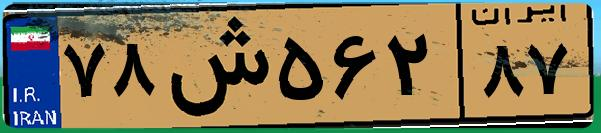2: (385, 28, 445, 110)
5: (270, 28, 330, 110)
6: (330, 28, 385, 110)
7: (57, 26, 110, 100), (525, 38, 570, 115)
8: (475, 38, 525, 113), (110, 28, 158, 98)
ش: (158, 12, 270, 120)
